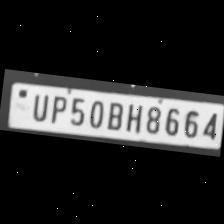0: (84, 94, 106, 128)
4: (198, 107, 221, 139)
5: (64, 92, 86, 125)
6: (178, 104, 201, 137), (160, 103, 182, 135)
8: (140, 102, 162, 134)
B: (102, 96, 125, 130)
H: (120, 100, 143, 132)
P: (45, 91, 67, 123)
U: (26, 89, 50, 121)
